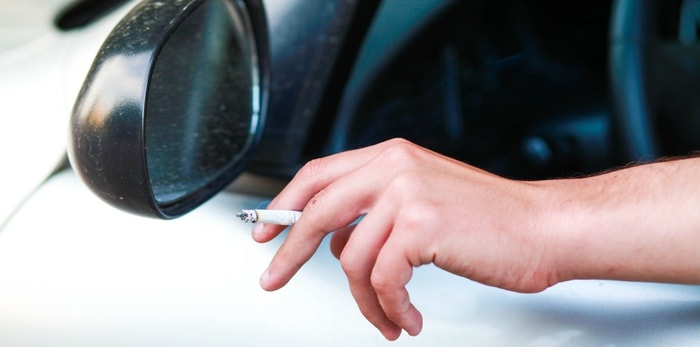sigaretta: (226, 198, 320, 235)
